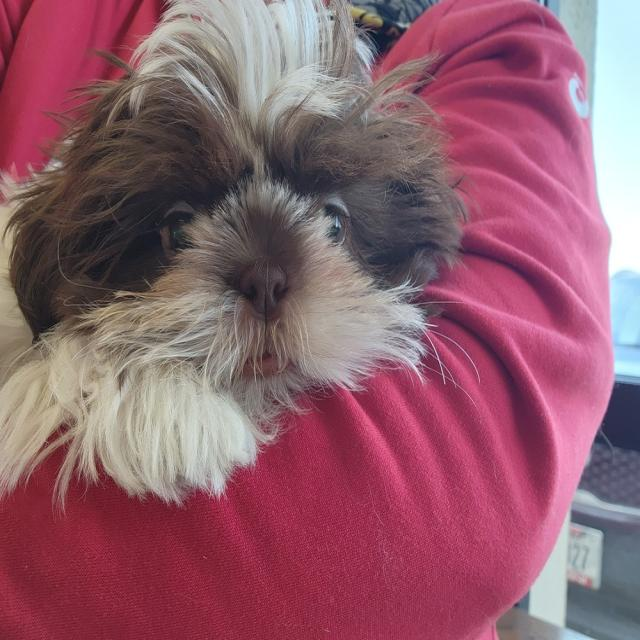shih_tzu_dog: (10, 12, 466, 409)
